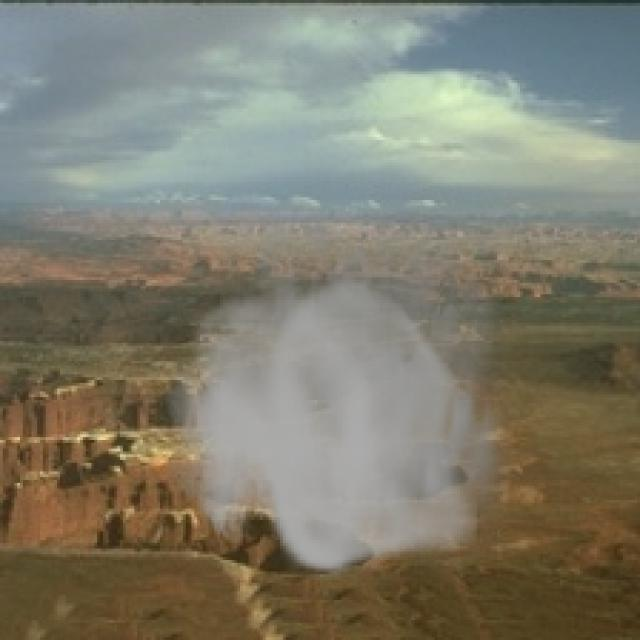Smoke: (165, 175, 526, 580)
